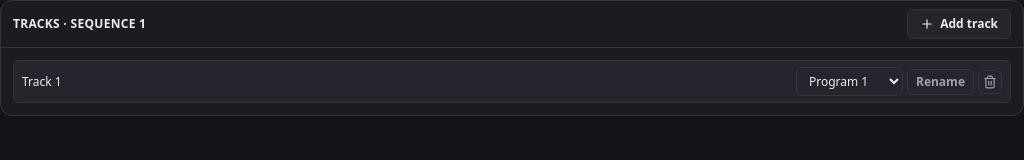
Scenario: TracksPanel › deletes a track, leaving the empty state that now names a reachable action
Click the button named "Delete Track 1".
click(990, 82)  # box [978,70,1002,94]
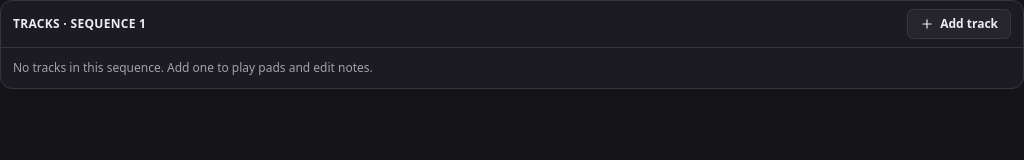
Expected: the text with test id "main-no-tracks" reads "No tracks in this sequence. Add one to play pads and edit notes.", [13,59,373,76]
